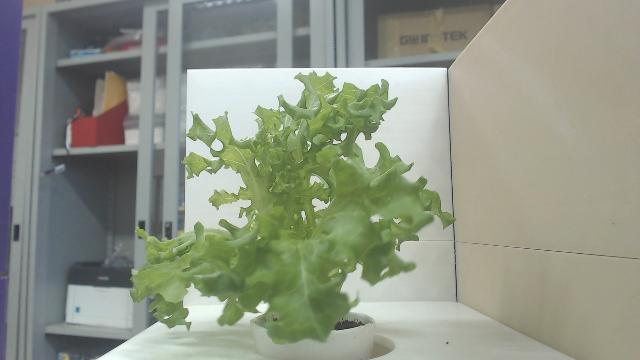Harvest Stage: (130, 70, 457, 344)
